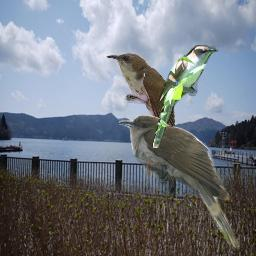Cuckoo: (119, 115, 240, 252), (106, 52, 175, 178), (152, 45, 219, 148)
